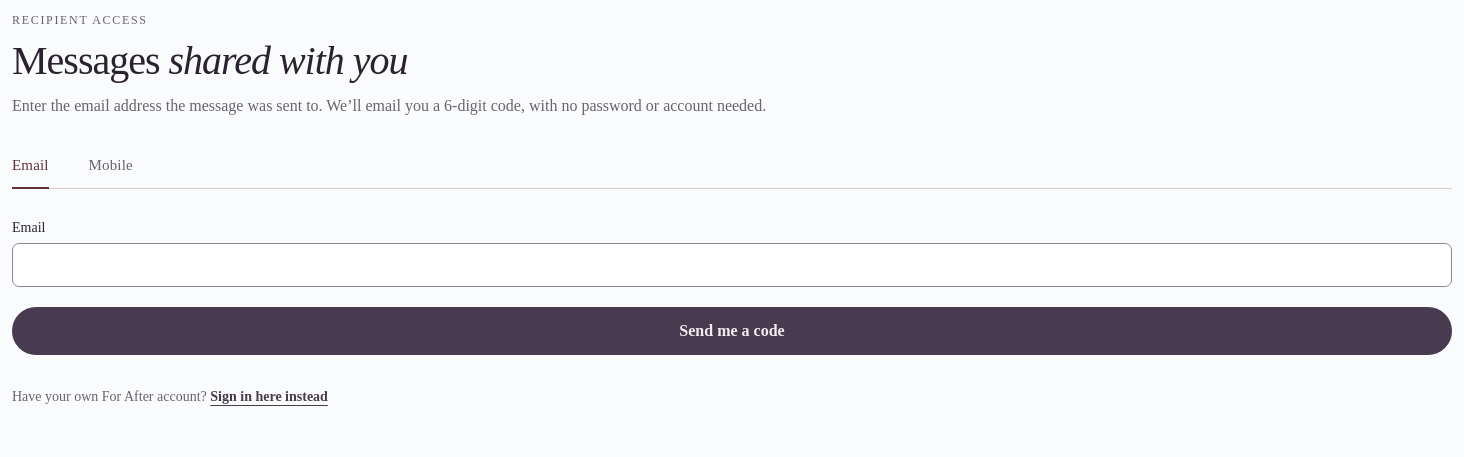
Test case: Recipient sign-in (FE-21) › shows a safe message for a rate limited code and clears it
The image size is (1464, 457).
Type "sofia@example.com" into the field labelled "Email" at x=732, y=264, box [12,242,1452,286]
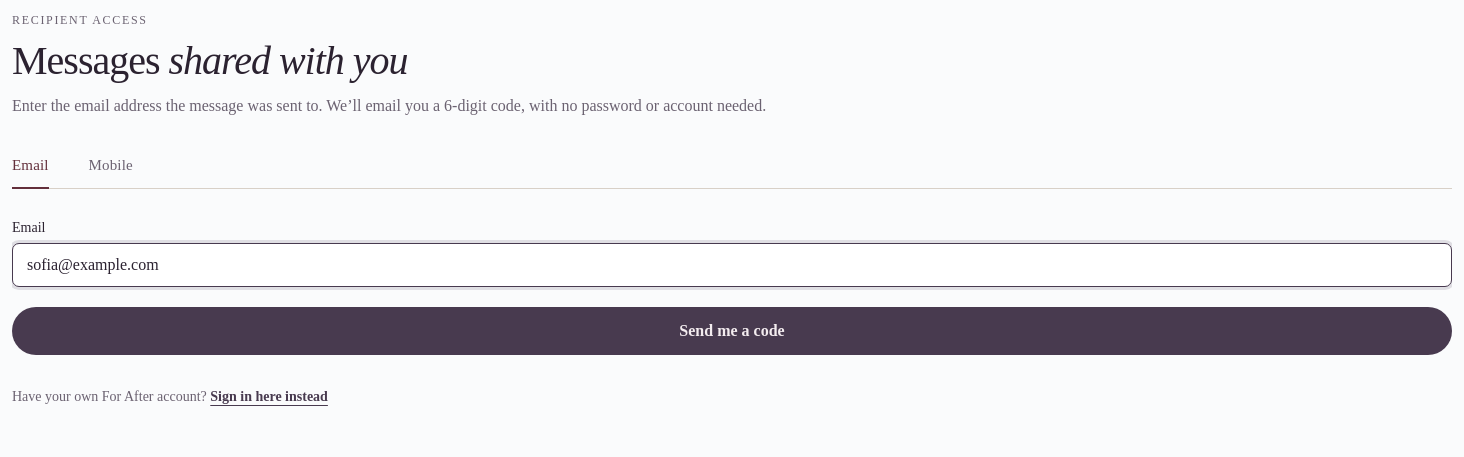
Click the button "Send me a code" at x=732, y=330, box [12,306,1452,354]
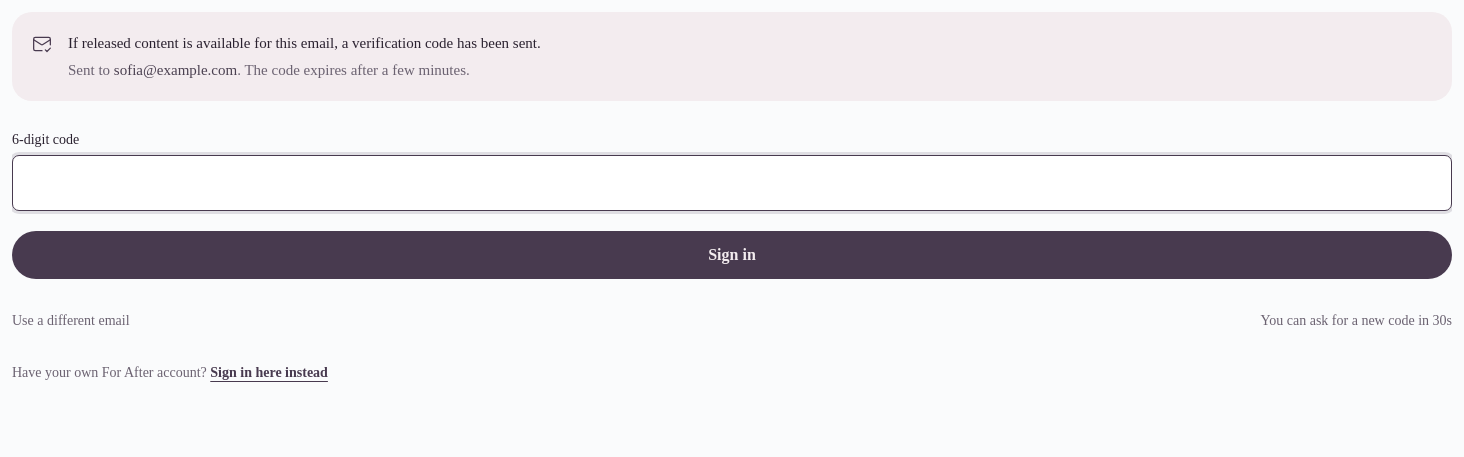
Type "000000" into the field labelled "6-digit code" at x=732, y=183, box [12,155,1452,211]
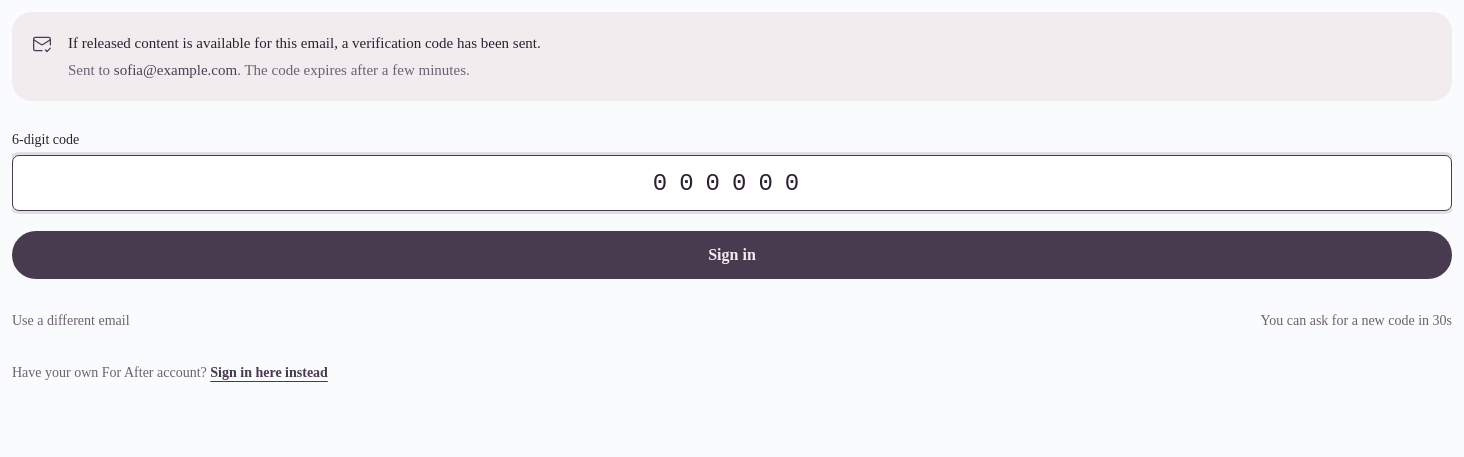
Click the button "Sign in" at x=732, y=255, box [12,231,1452,279]
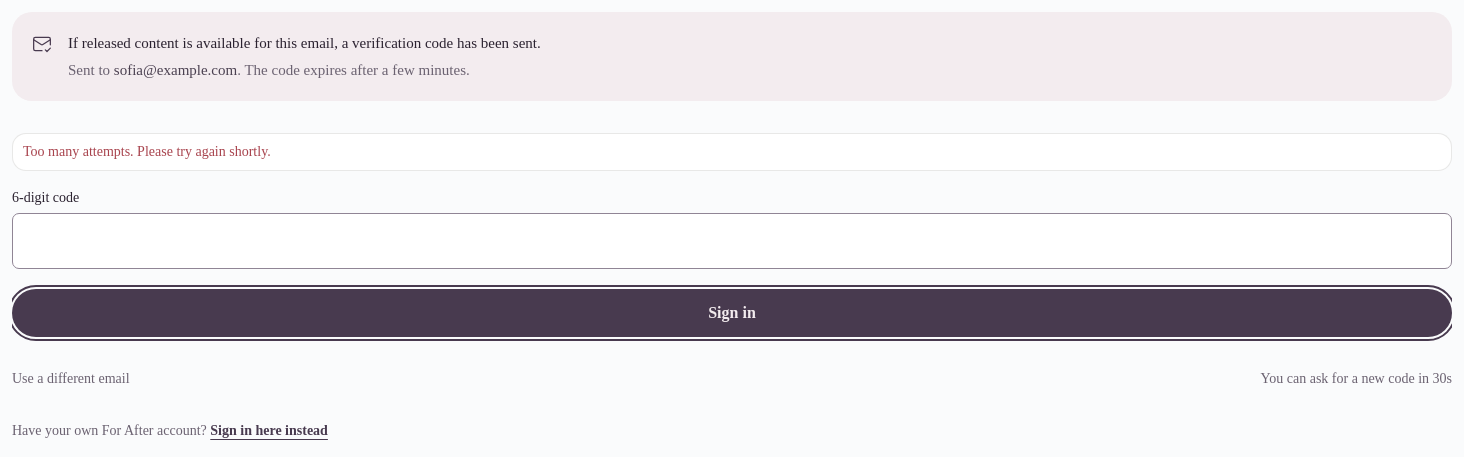
Expected: the text "Too many attempts. Please try again shortly." is shown, [23,144,271,159]
Expected: the field labelled "6-digit code" is empty, [12,213,1452,269]
